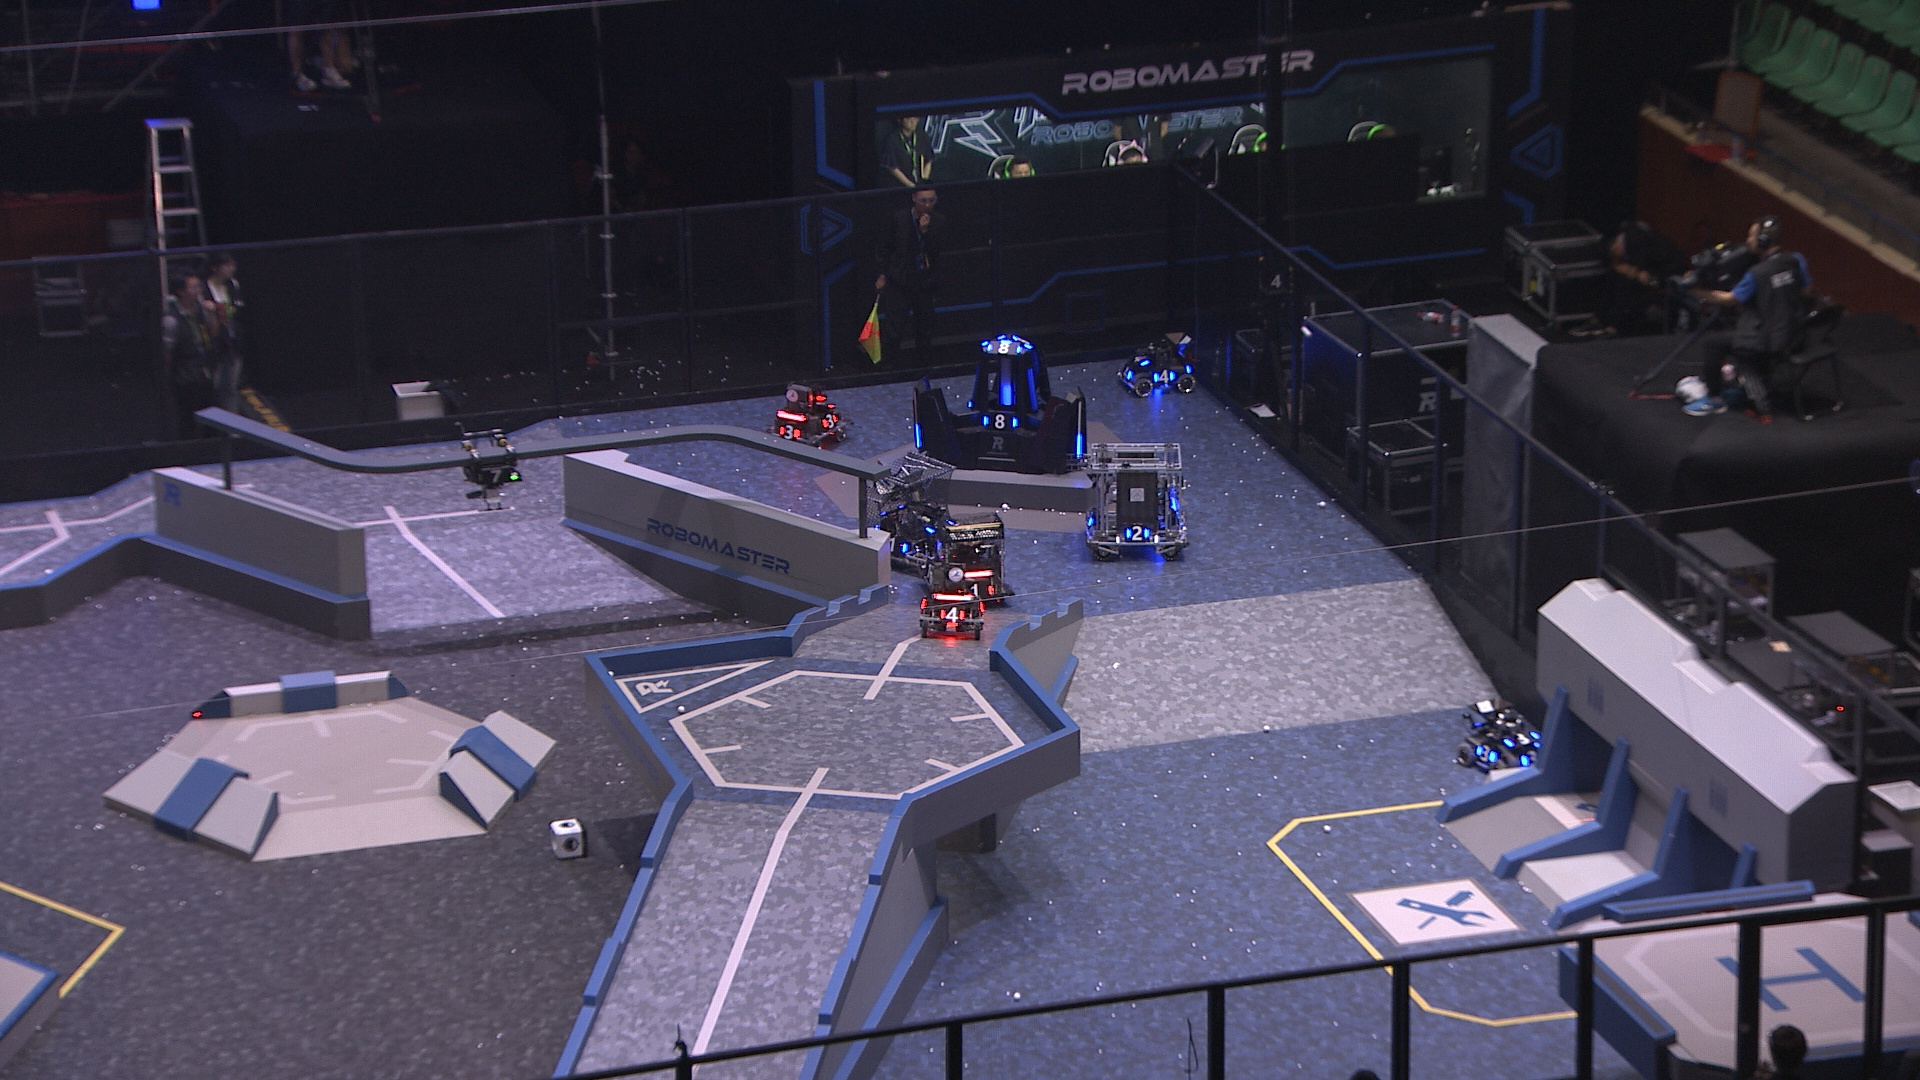armor: (475, 462, 522, 485), (1022, 371, 1044, 414), (1498, 731, 1542, 750), (964, 579, 998, 603), (775, 419, 804, 443), (1122, 520, 1153, 542), (982, 413, 1017, 433), (1472, 742, 1501, 765), (884, 533, 910, 556), (818, 410, 844, 433), (939, 604, 968, 624), (986, 342, 1022, 357), (1153, 365, 1179, 386), (1519, 752, 1543, 770), (1000, 381, 1013, 407), (1133, 351, 1154, 367), (1120, 361, 1135, 381), (1073, 433, 1087, 456), (913, 425, 923, 448)
base: (905, 328, 1093, 476)
car: (855, 452, 971, 575), (1079, 436, 1189, 562), (915, 509, 1015, 607), (1449, 692, 1552, 779), (757, 380, 849, 454), (1112, 328, 1199, 398), (916, 560, 986, 640)
watcher: (451, 423, 526, 513)
